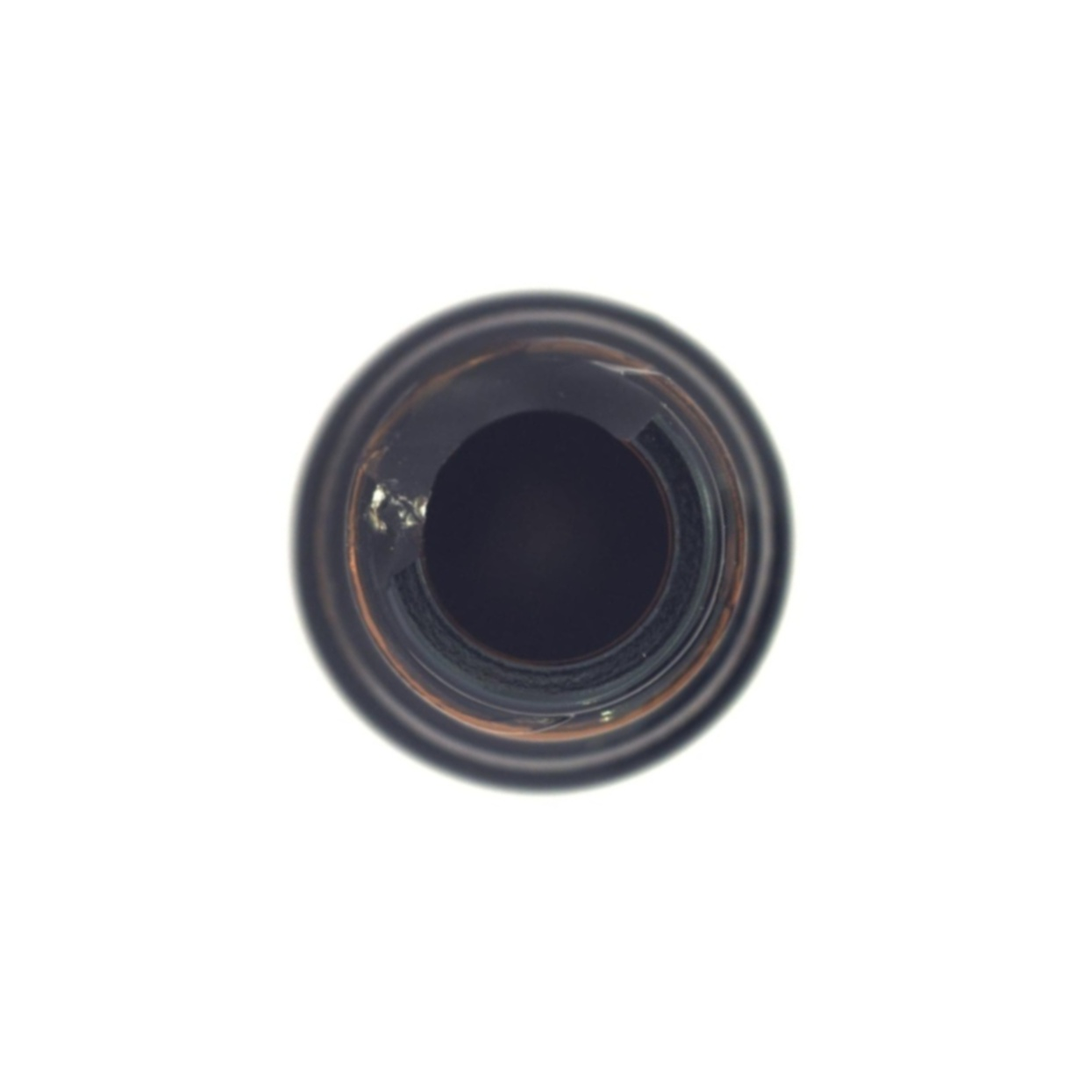bad-broken_large: (52, 53, 1034, 1038)
